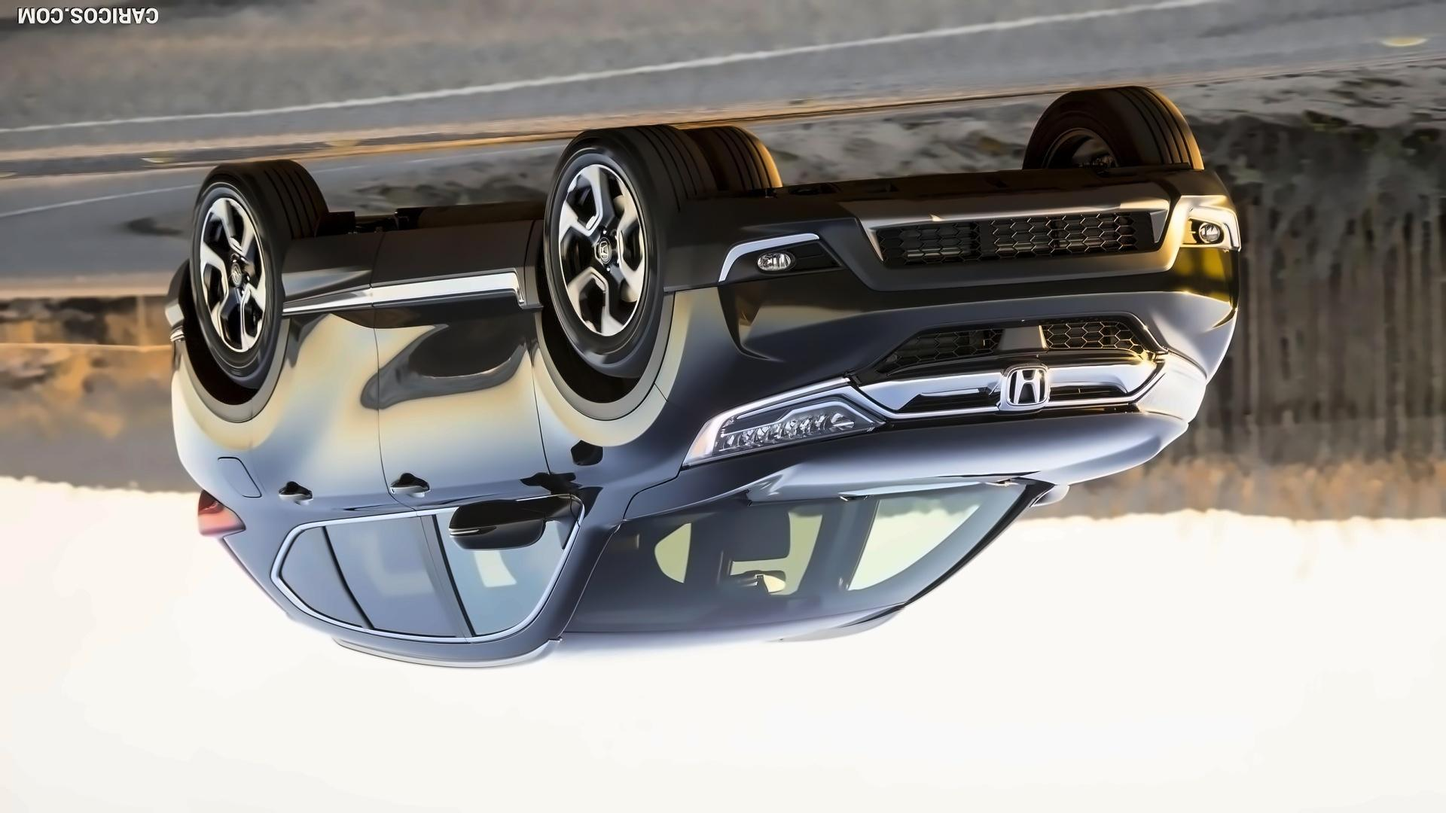Car hood: (623, 408, 1190, 534)
Fender - -F-L-: (515, 281, 707, 571)
Fender - -R-L-: (174, 232, 350, 528)
Front bumper: (657, 164, 1244, 344)
Headlight - -L-: (677, 369, 898, 466)
Headlight - -R-: (1127, 353, 1207, 427)
Passenger-s door - -F-L-: (348, 176, 578, 674)
Passenger-s door - -R-L-: (258, 192, 475, 665)
Rear light - -L-: (192, 484, 254, 541)
Side bumper - -L-: (275, 188, 570, 367)
Side mirror - -L-: (444, 491, 583, 556)
